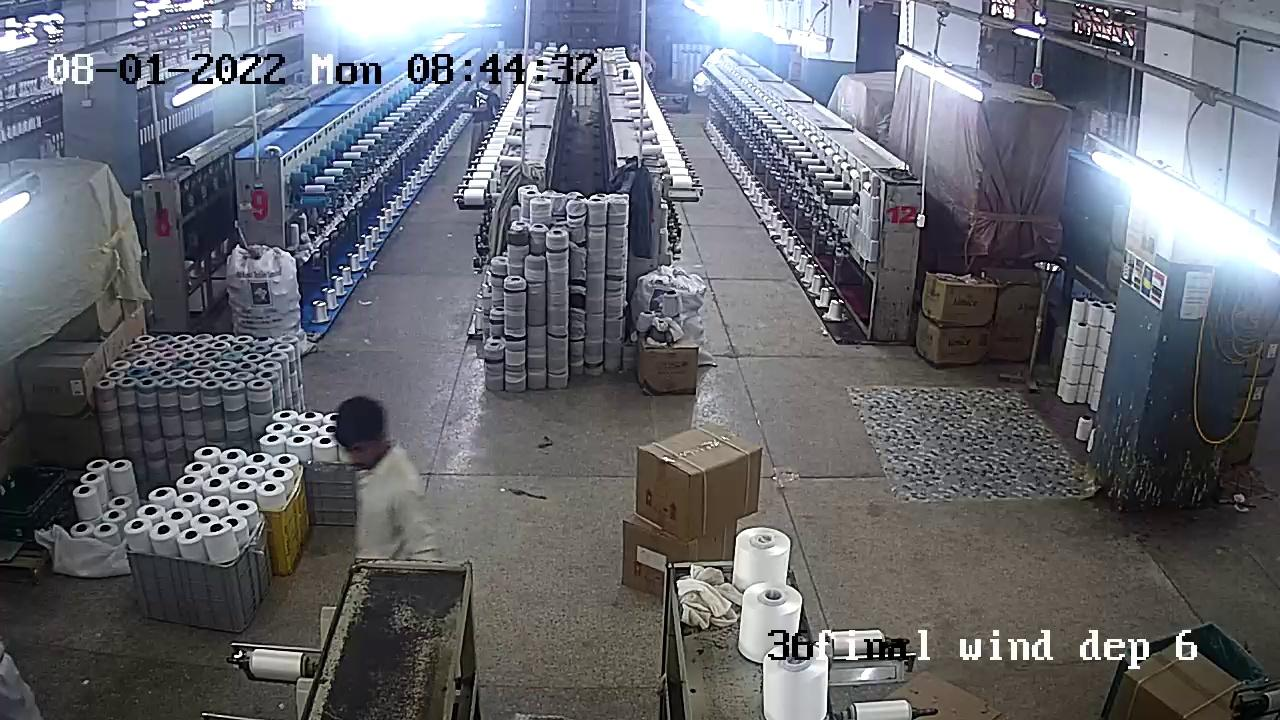person: (329, 402, 427, 542)
